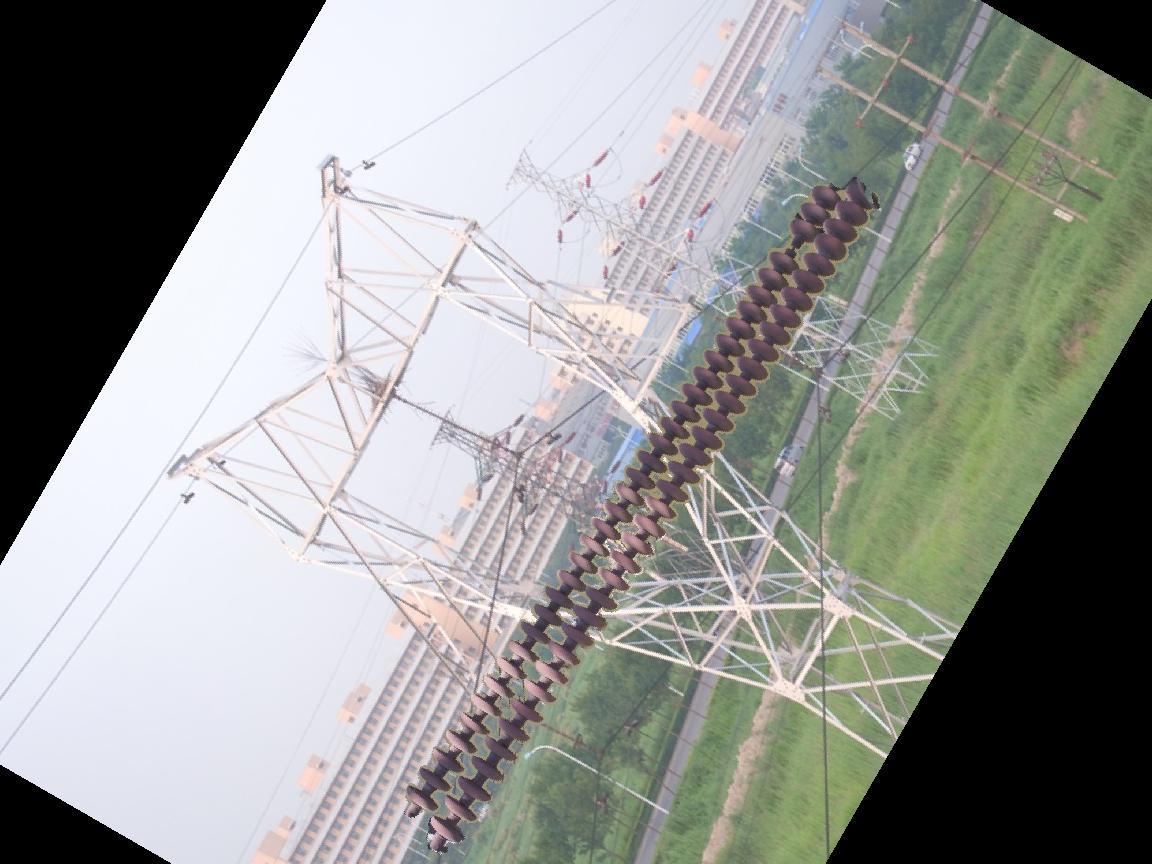insulator: (402, 177, 875, 847)
insulator_stringdrop: (768, 217, 821, 275)
